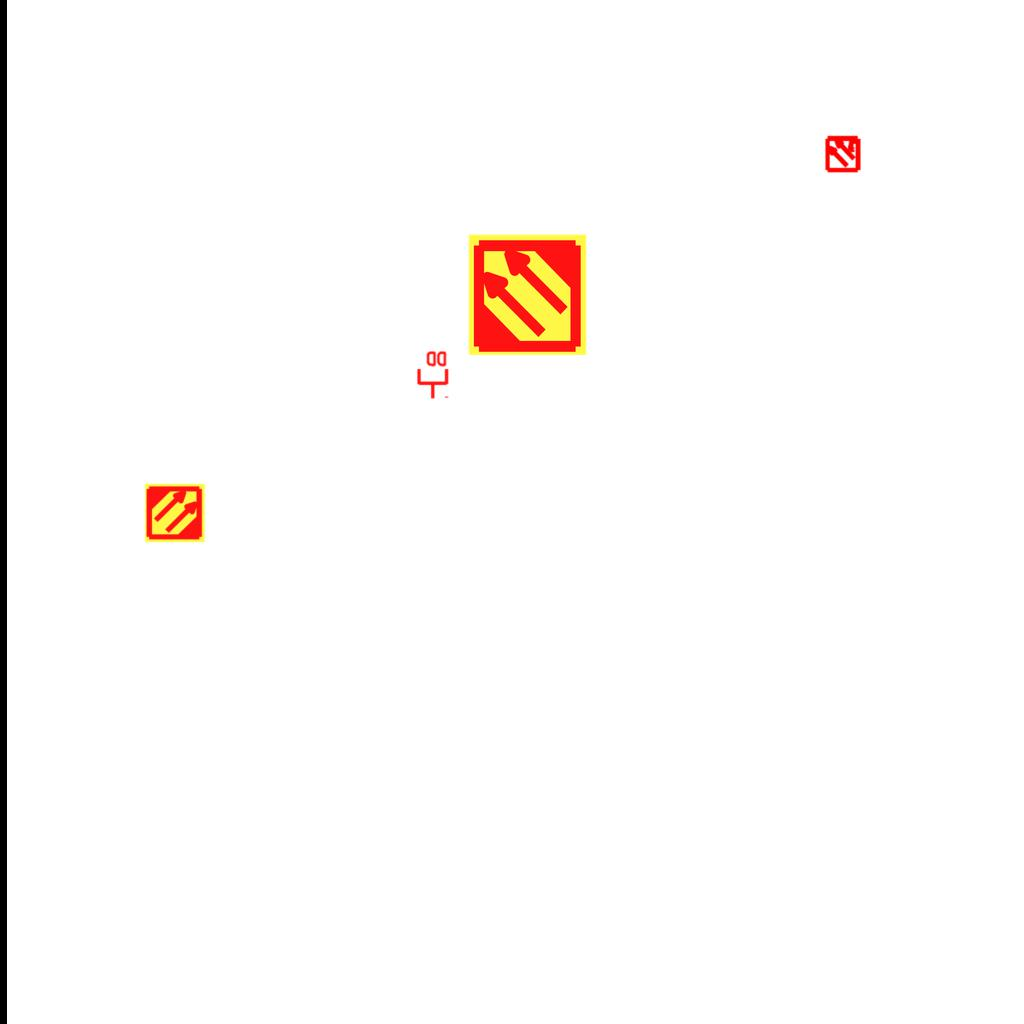ASR_Ansaugrauchmelder: (465, 232, 590, 357), (144, 482, 206, 544)
Datenanschluss_zweifach: (415, 349, 449, 400)
OT_Multisensormelder_(Kombination_RMO_WMD): (815, 125, 871, 181)
